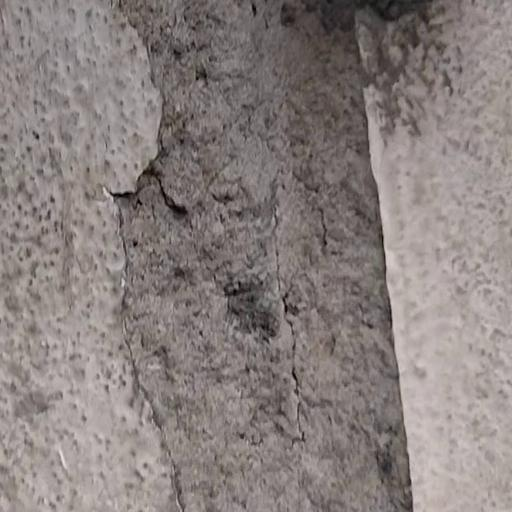spalling: (114, 0, 428, 512)
